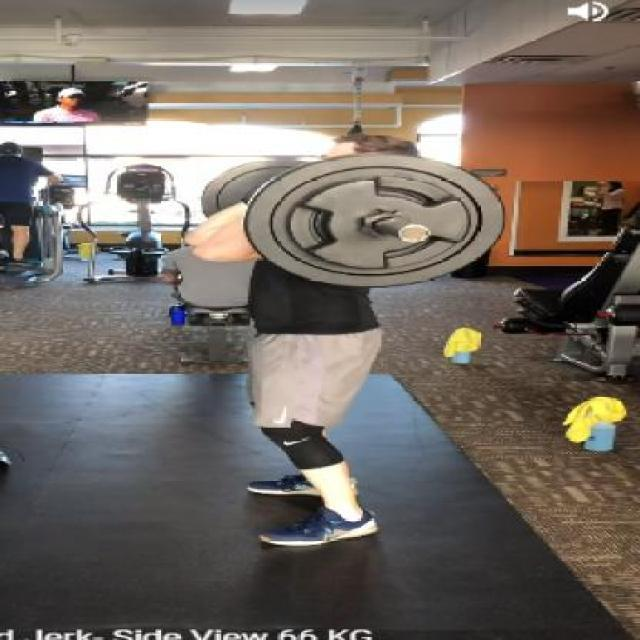barbell: (234, 145, 520, 296)
